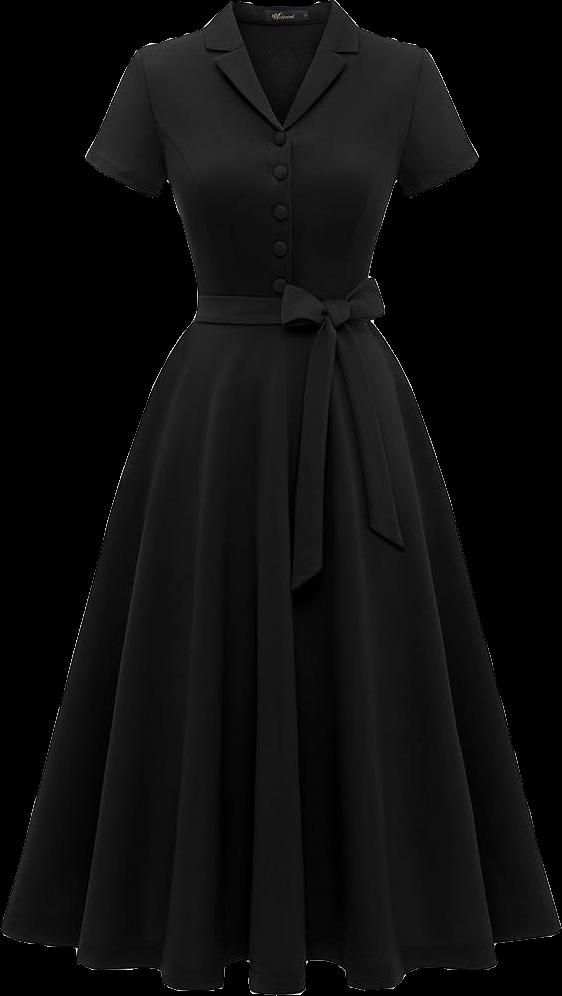Bodice: (136, 0, 427, 315)
Hemline: (0, 917, 561, 995)
Neckline: (227, 0, 336, 134)
Skirt: (2, 316, 560, 995)
Sleeve: (396, 50, 478, 196), (85, 53, 166, 196)
Sleeveline: (391, 52, 432, 182), (134, 50, 173, 180)
Waistline: (192, 304, 377, 323)
